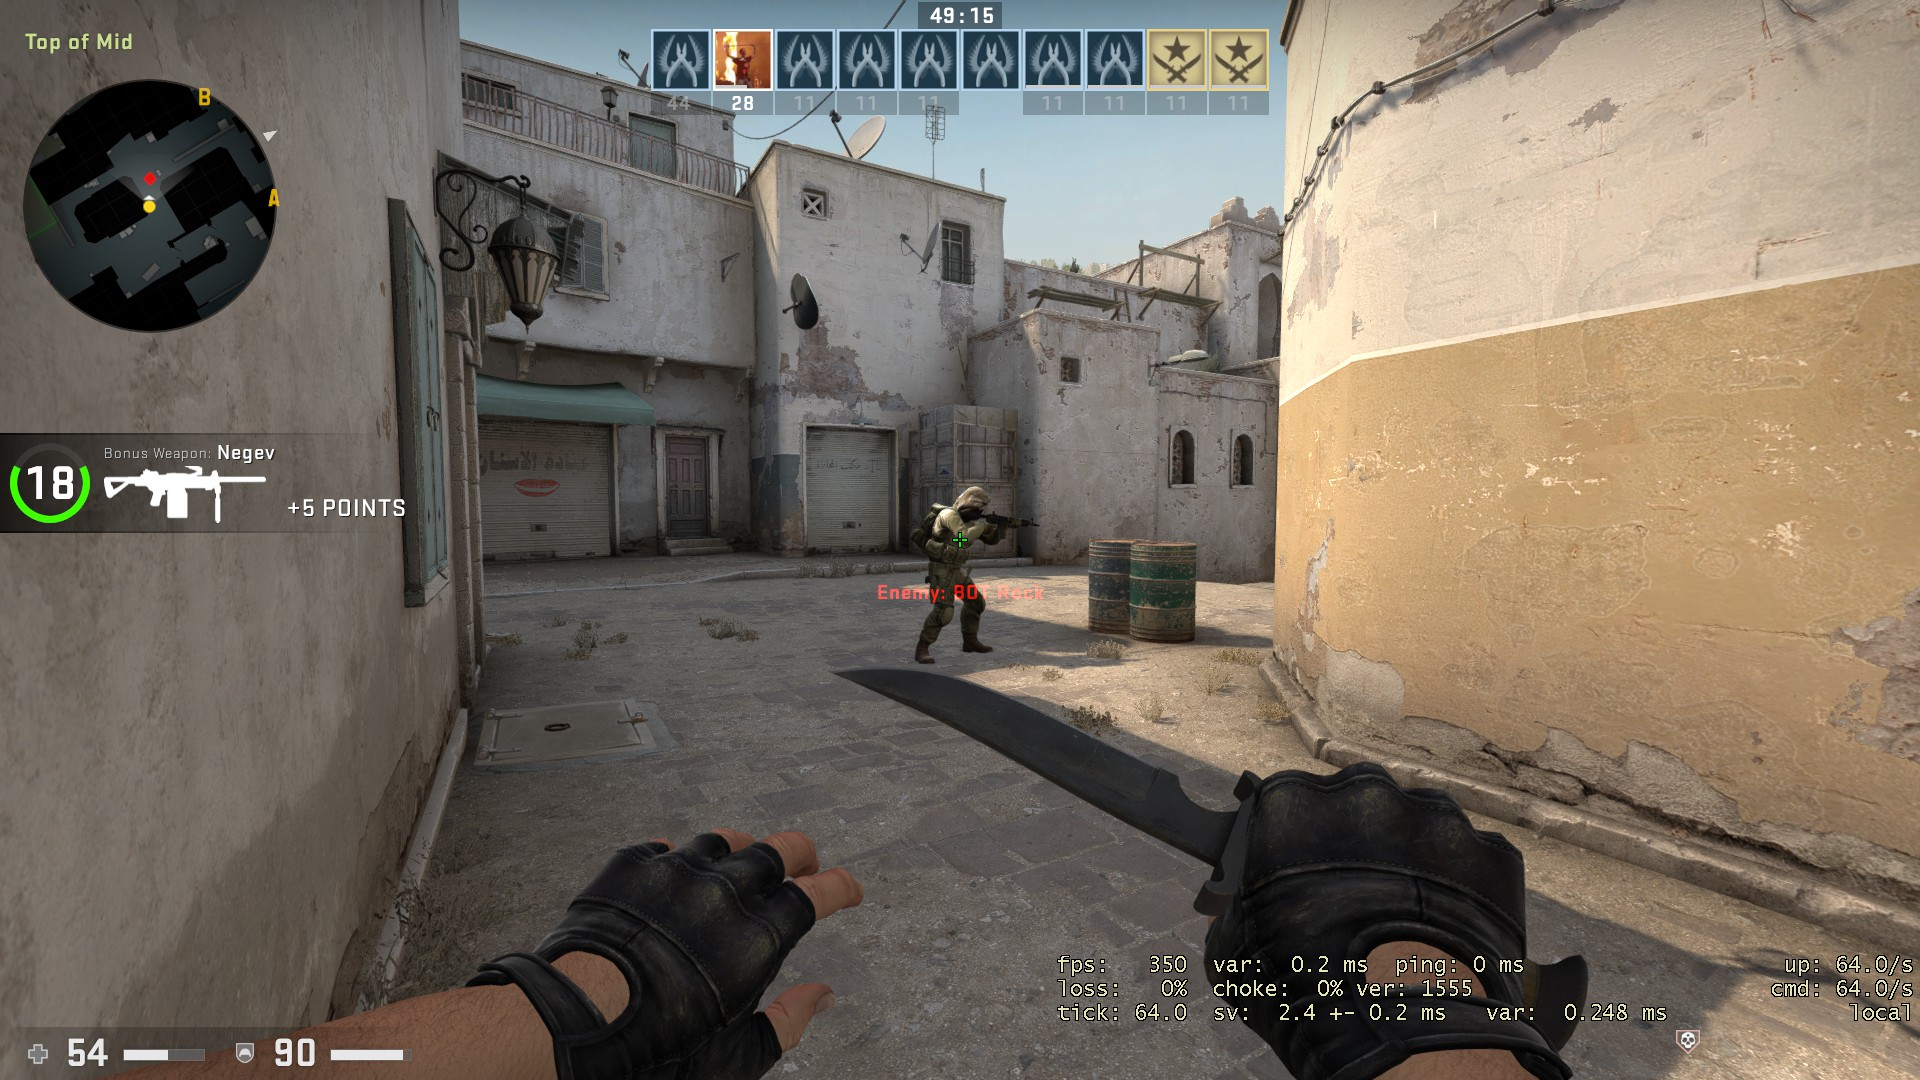player: (907, 481, 1042, 665)
